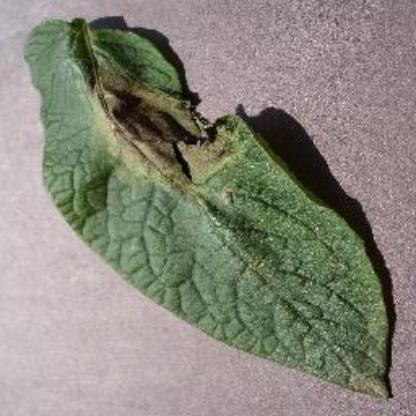Late-Blight: (37, 29, 390, 401)
